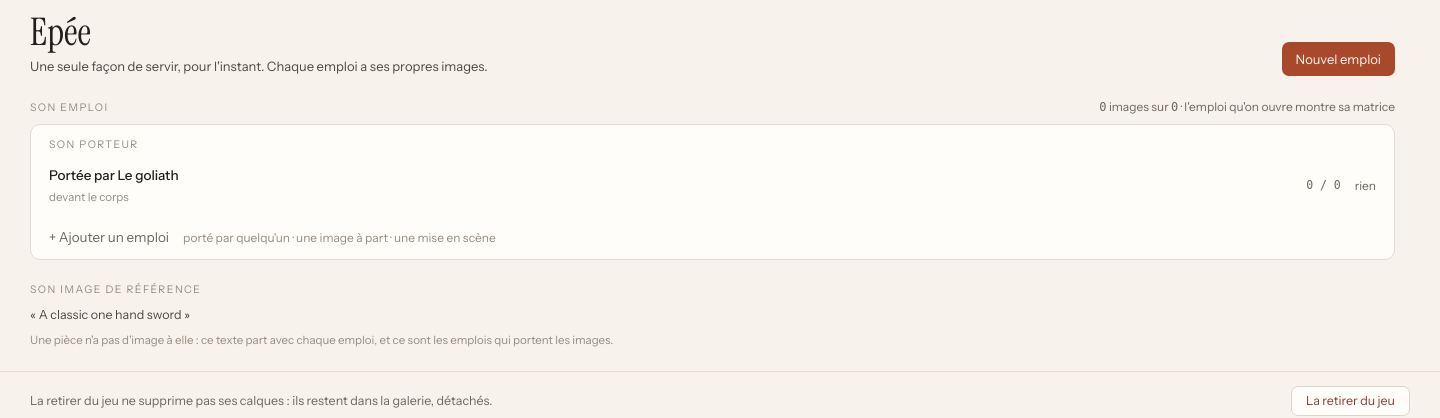
Test: ajouter un emploi se fait en place, sans fenêtre flottante › quand tout le monde la porte déjà, il le dit plutôt que d'offrir une liste vide
(page scrolled)
Click the button that starts with "+ Ajouter un emploi": (109, 237) top-left (35, 219), bottom-right (1390, 255)
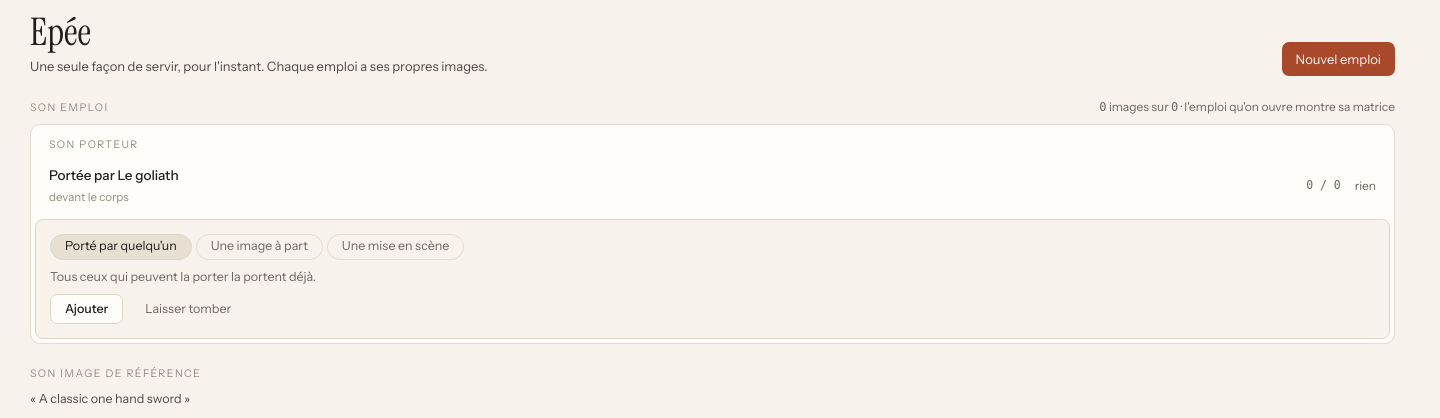
Expected: the text "Tous ceux qui peuvent la porter la portent déjà." is shown, top-left (50, 269), bottom-right (316, 284)
